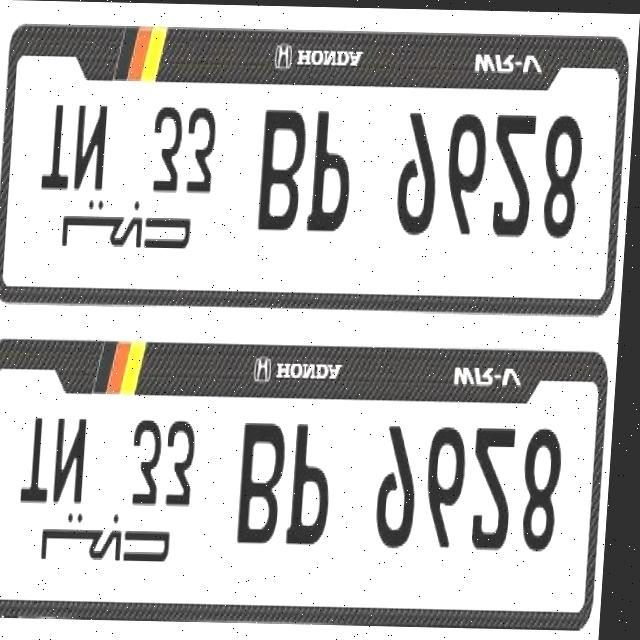plate: (0, 329, 619, 639), (0, 26, 632, 320)
